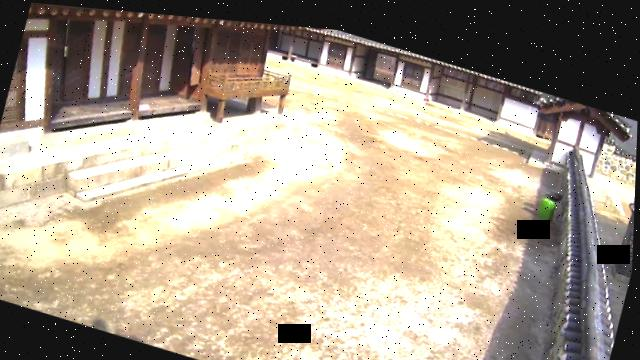bag: (535, 184, 560, 215)
